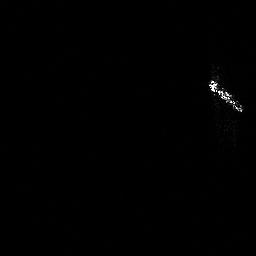ship: (207, 78, 243, 113)
